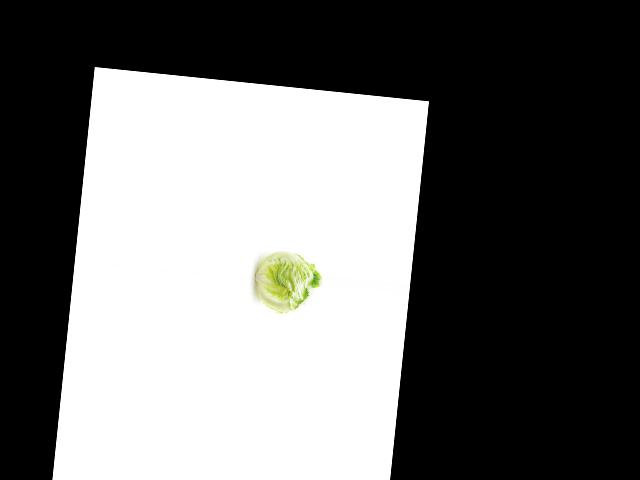lettuce: (248, 246, 325, 322)
